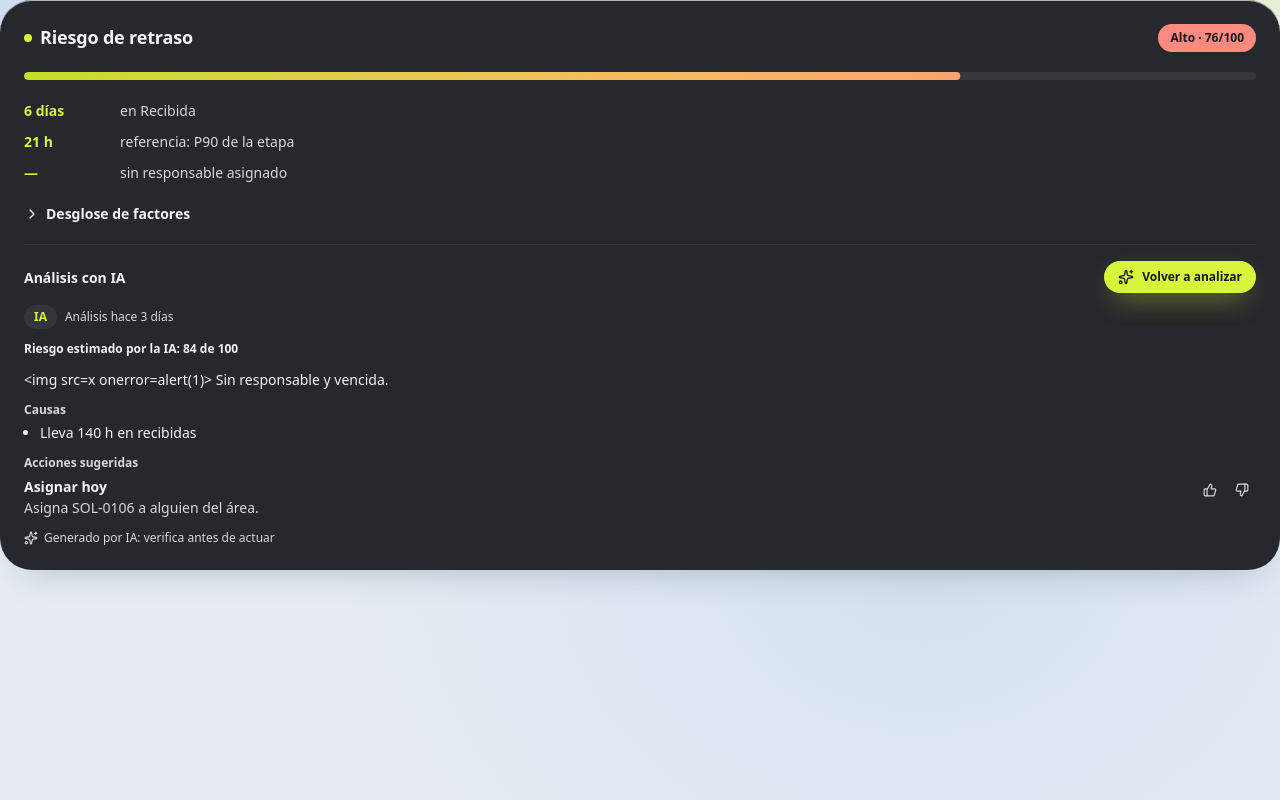
tarjeta de riesgo › muestra el puntaje, los factores y el análisis de la IA como texto plano
The width and height of the screenshot is (1280, 800).
Expected: the text "Alto · 76/100" is shown, [1158, 24, 1256, 52]
Step 1. Click the button "Desglose de factores" → (107, 214), box [24, 203, 190, 224]
(page scrolled)
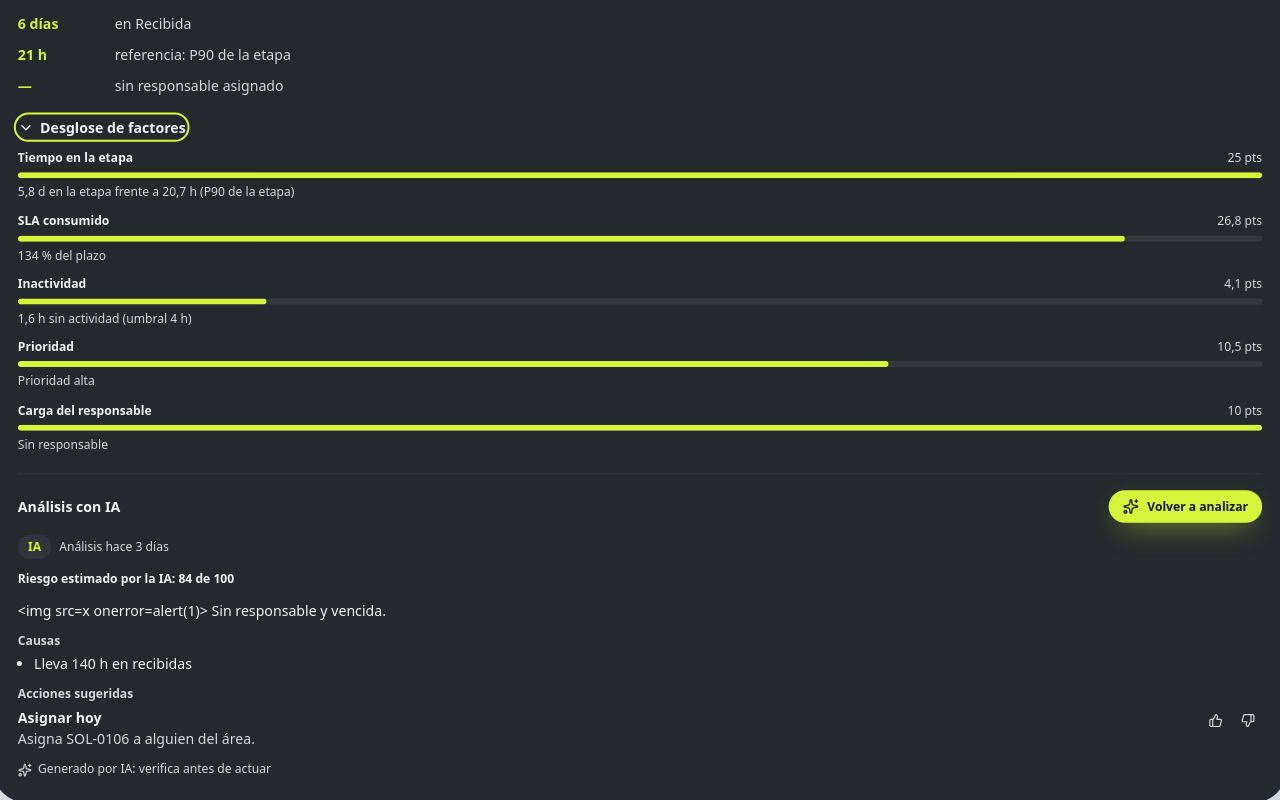
Expected: the button "Desglose de factores" is expanded, [18, 117, 186, 138]
Expected: the text "Tiempo en la etapa" is shown, [18, 150, 133, 166]
Expected: the text "25 pts" is shown, [1228, 150, 1262, 166]
